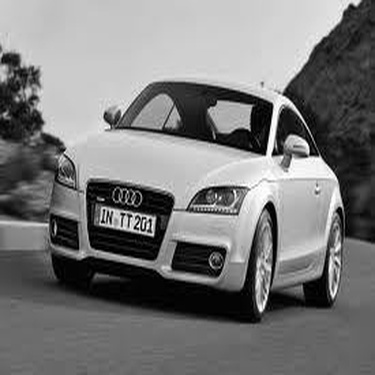car: (40, 68, 348, 331)
